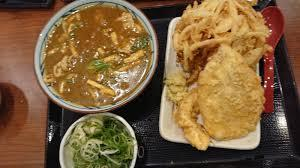curry: (36, 2, 154, 110)
kakiage: (175, 1, 267, 69)
satumaimo: (201, 47, 259, 136)
